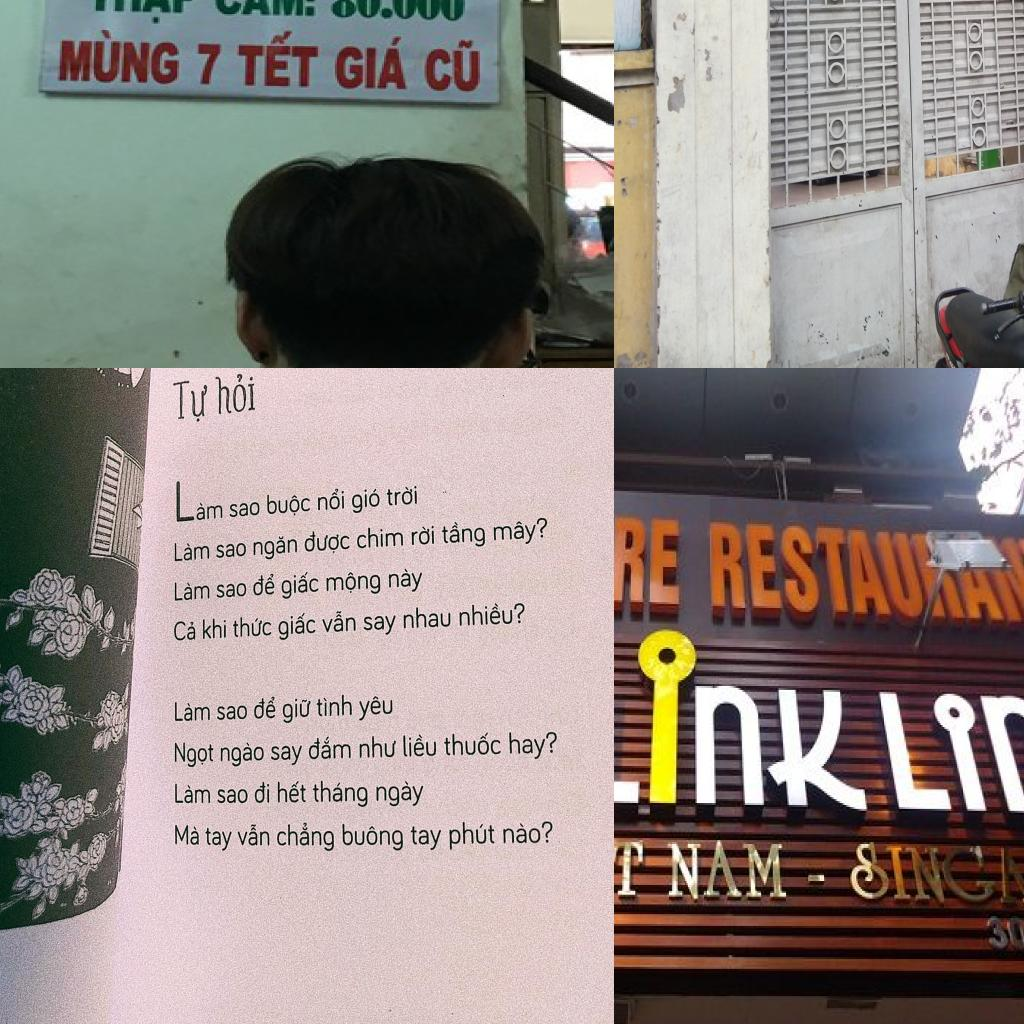text: (614, 625, 871, 824), (703, 516, 928, 624), (869, 684, 1024, 832), (849, 836, 1024, 908), (657, 828, 792, 908), (56, 27, 184, 89), (614, 504, 683, 619), (237, 27, 322, 92), (335, 32, 414, 94), (614, 811, 650, 920), (328, 0, 471, 25), (85, 0, 200, 26), (172, 478, 226, 524), (340, 820, 406, 854), (276, 819, 336, 856), (212, 370, 258, 418), (166, 377, 210, 427), (456, 598, 526, 628), (213, 0, 317, 20), (312, 778, 372, 810), (491, 513, 549, 545), (979, 914, 1024, 955), (508, 726, 560, 761), (447, 820, 497, 854), (442, 730, 502, 758), (192, 40, 226, 88), (324, 570, 384, 596), (374, 779, 426, 809), (503, 819, 555, 849), (354, 522, 404, 552), (440, 518, 488, 548), (400, 604, 454, 630), (265, 491, 314, 519), (303, 529, 352, 557), (280, 567, 320, 601), (276, 610, 318, 642), (172, 739, 216, 769), (252, 533, 299, 561), (306, 733, 352, 761), (220, 741, 266, 768), (356, 693, 394, 723), (170, 697, 212, 723), (358, 734, 398, 761), (316, 691, 354, 719), (409, 823, 445, 852), (172, 539, 212, 565), (233, 613, 273, 639), (320, 609, 360, 635), (350, 484, 382, 516), (388, 567, 424, 595), (402, 730, 438, 758), (172, 578, 212, 603), (174, 780, 212, 806), (235, 823, 273, 849), (281, 696, 313, 726), (385, 482, 421, 508), (362, 614, 398, 638), (268, 743, 304, 767), (276, 778, 308, 805), (204, 826, 234, 854), (408, 521, 436, 549), (171, 821, 201, 847), (228, 498, 262, 520), (316, 487, 346, 511), (215, 580, 249, 600), (216, 702, 250, 722), (215, 784, 249, 804), (200, 617, 228, 641), (252, 695, 277, 721), (215, 540, 247, 560), (253, 572, 277, 598), (172, 619, 198, 643), (254, 779, 272, 804)
